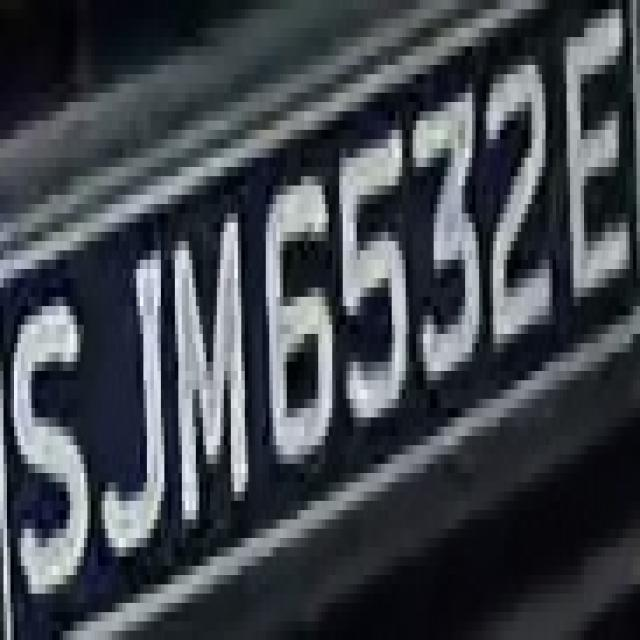2: (469, 37, 556, 380)
3: (402, 74, 483, 380)
5: (332, 93, 420, 464)
6: (252, 148, 339, 492)
E: (560, 9, 633, 306)
J: (84, 194, 171, 594)
M: (168, 194, 252, 528)
S: (3, 241, 88, 640)
